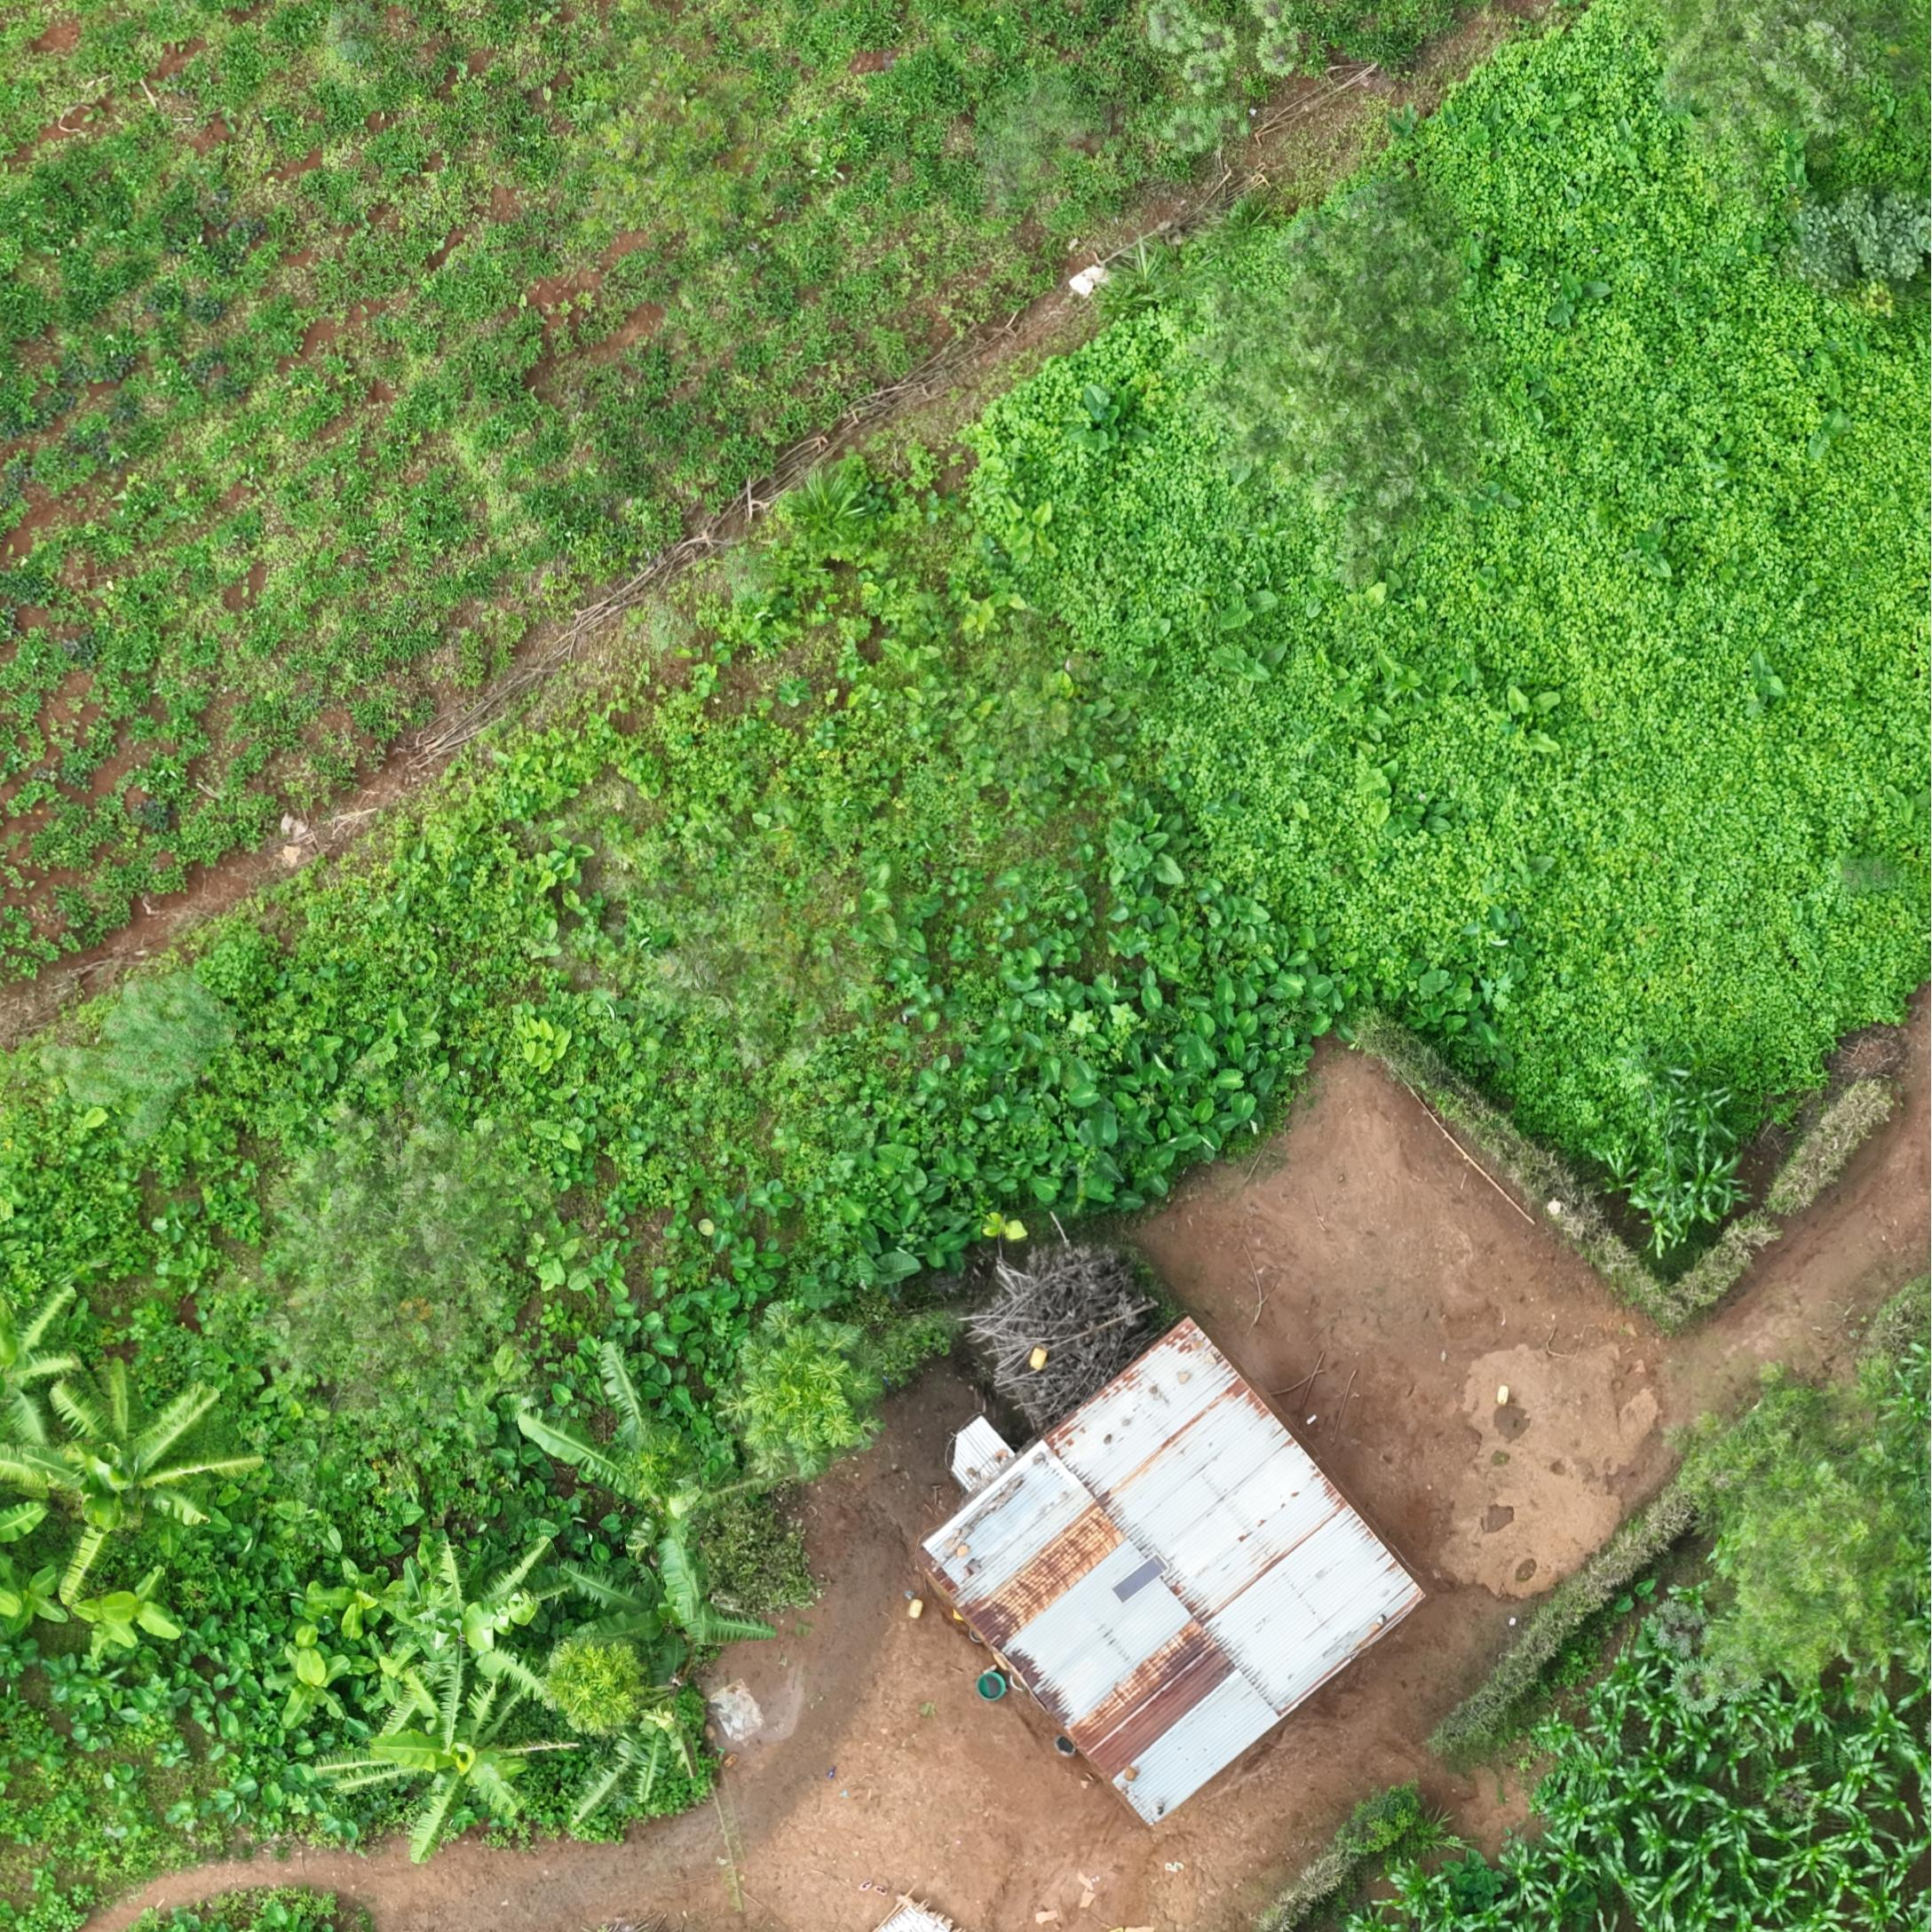Banana: (416, 1732, 547, 1900), (57, 1447, 195, 1578), (423, 1619, 559, 1746), (628, 1619, 747, 1725), (297, 1714, 357, 1783), (119, 1637, 175, 1698)
